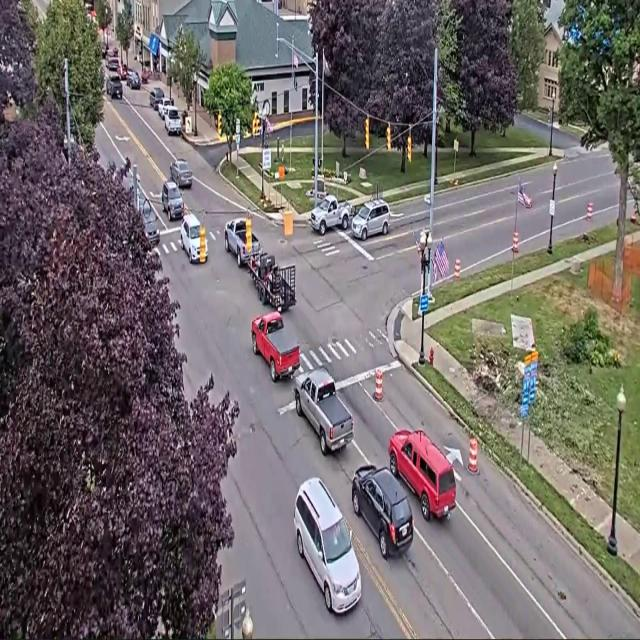car: (294, 478, 361, 613), (389, 430, 455, 520), (352, 465, 413, 558), (351, 200, 390, 240), (180, 214, 203, 263), (161, 181, 184, 220), (141, 199, 160, 246), (170, 159, 192, 188), (164, 106, 181, 135), (106, 74, 122, 98), (157, 96, 173, 119), (126, 69, 142, 90), (149, 88, 164, 110), (107, 57, 119, 72), (119, 64, 128, 80), (102, 43, 108, 59)
traffic signal: (199, 226, 206, 263), (245, 216, 252, 252), (252, 112, 259, 136), (365, 117, 369, 150), (386, 125, 391, 150), (217, 112, 222, 136), (407, 135, 411, 161), (548, 107, 551, 123)
truck: (294, 369, 353, 455), (252, 312, 299, 383), (248, 253, 295, 311), (224, 218, 260, 267), (310, 195, 352, 235)
